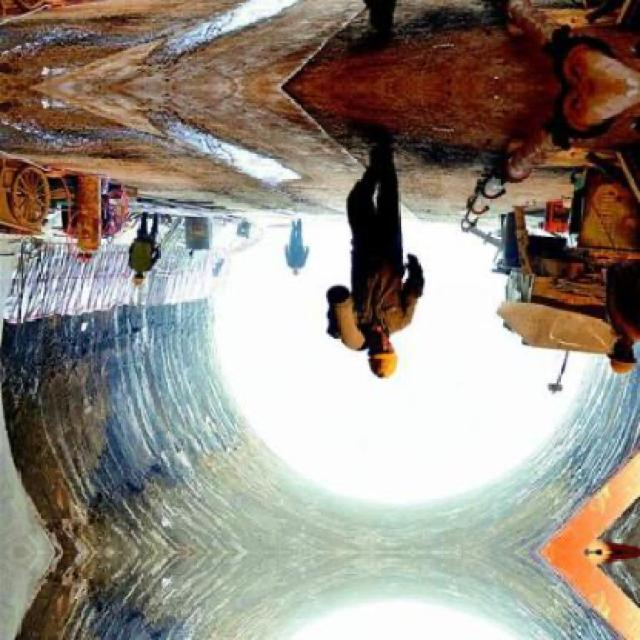con casco: (349, 311, 418, 385)
